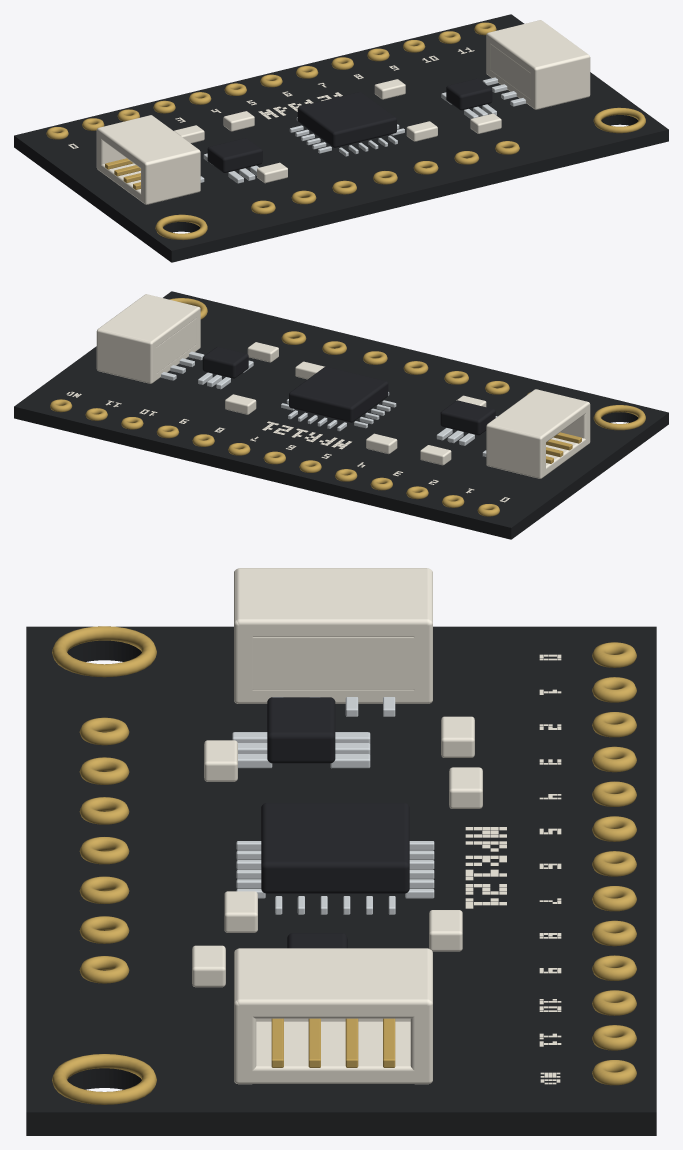
The model's file is sensors-24.glb.
3 views of the same model, one above another, from view 1: azimuth 30°, elevation 25°; view 2: azimuth 150°, elevation 25°; view 3: azimuth 270°, elevation 25° (orthographic). The views are drawn at different scales.
Parts seen in each view (by area): view 1: board, right-socket, left-socket, chip, electrodes, pads, mounting; view 2: board, right-socket, left-socket, chip, electrodes, pads, mounting; view 3: board, right-socket, left-socket, chip, electrodes, pads, mounting.
Boxes of the visible parts, <box> form: board: <box>14,14,668,262</box>; right-socket: <box>482,20,590,109</box>; left-socket: <box>96,115,204,204</box>; chip: <box>289,92,404,156</box>; electrodes: <box>46,22,496,139</box>; pads: <box>251,141,519,214</box>; mounting: <box>155,107,645,240</box>; board: <box>14,291,668,539</box>; right-socket: <box>96,294,204,383</box>; left-socket: <box>482,389,590,478</box>; chip: <box>281,366,396,431</box>; electrodes: <box>50,399,499,516</box>; pads: <box>281,331,530,394</box>; mounting: <box>169,298,645,430</box>; board: <box>26,626,656,1135</box>; right-socket: <box>234,948,432,1084</box>; left-socket: <box>234,568,432,716</box>; chip: <box>236,803,434,914</box>; electrodes: <box>592,642,636,1085</box>; pads: <box>79,717,129,983</box>; mounting: <box>52,626,156,1104</box>.
Bounding box in the file's own units: 2.86 × 0.3005 × 1.57.
